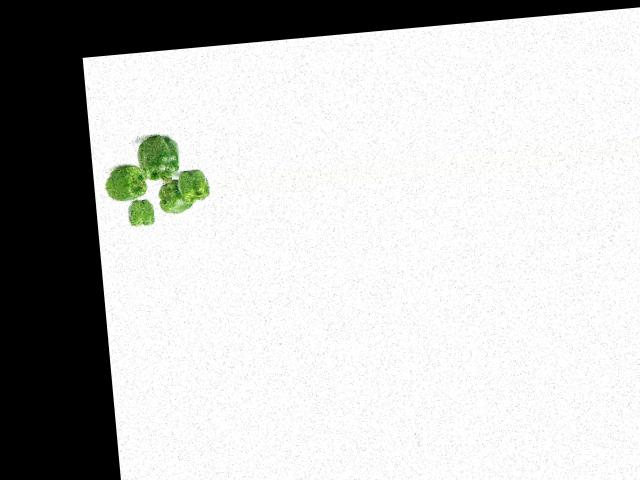bell_pepper: (173, 164, 210, 202)
